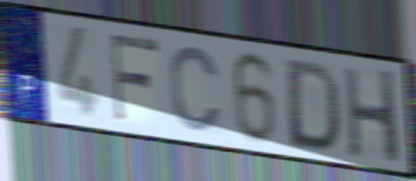4: (55, 22, 102, 124)
6: (232, 48, 279, 146)
C: (168, 43, 224, 135)
D: (285, 56, 343, 155)
F: (109, 31, 161, 125)
H: (340, 65, 404, 169)
